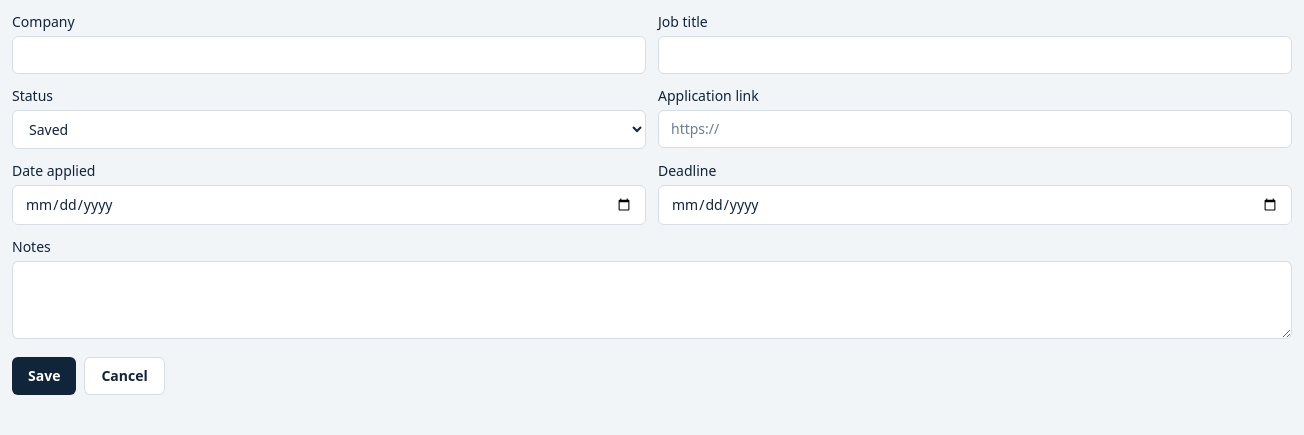
Test case: application editing › rejects non-http links
Type "A" into the field labelled "Company".
click(329, 55); type("A")  # box [12, 36, 646, 74]
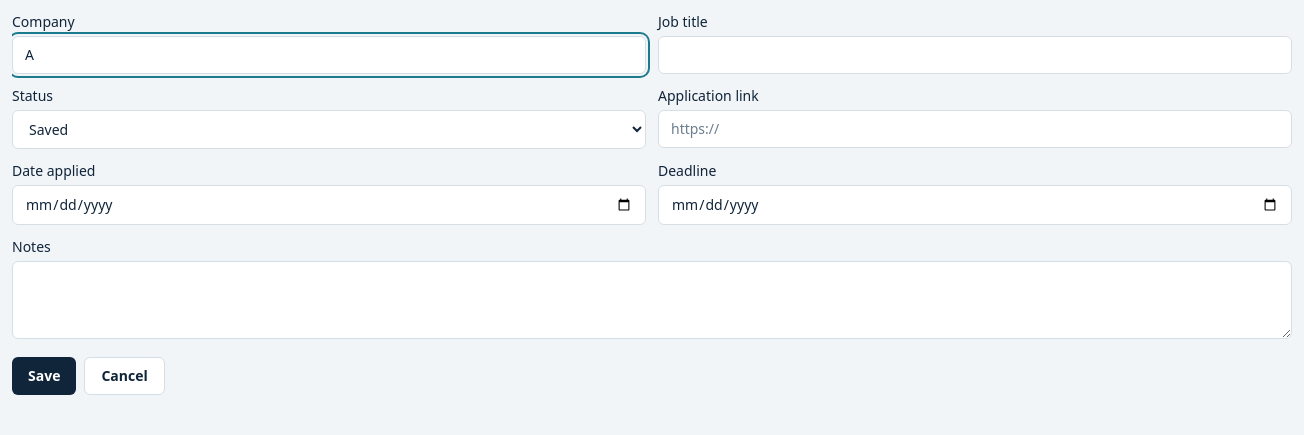
Type "B" into the field labelled "Job title".
click(975, 55); type("B")  # box [658, 36, 1292, 74]
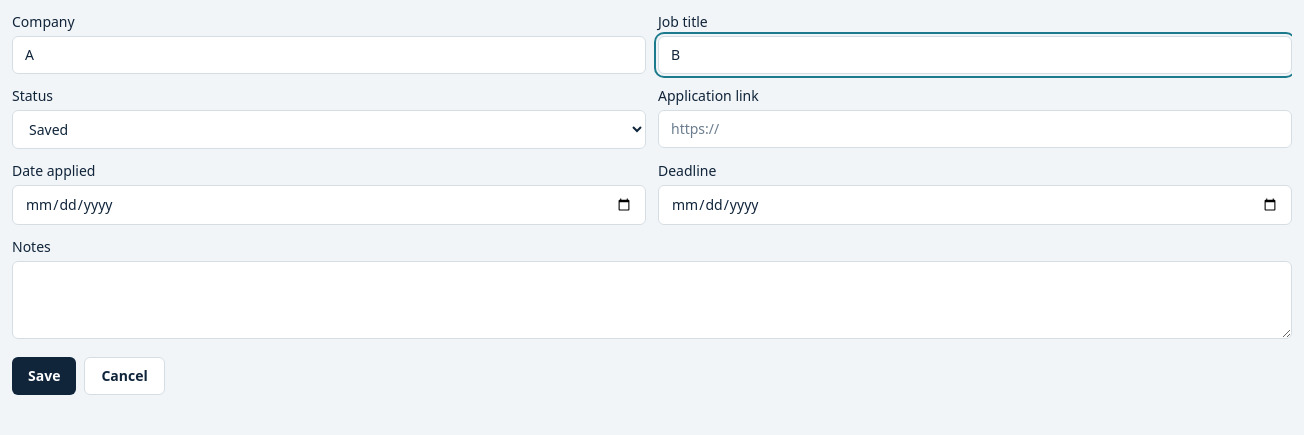
Type "javascript:alert(1)" into the field labelled "Application link".
click(975, 129); type("javascript:alert(1)")  # box [658, 110, 1292, 148]
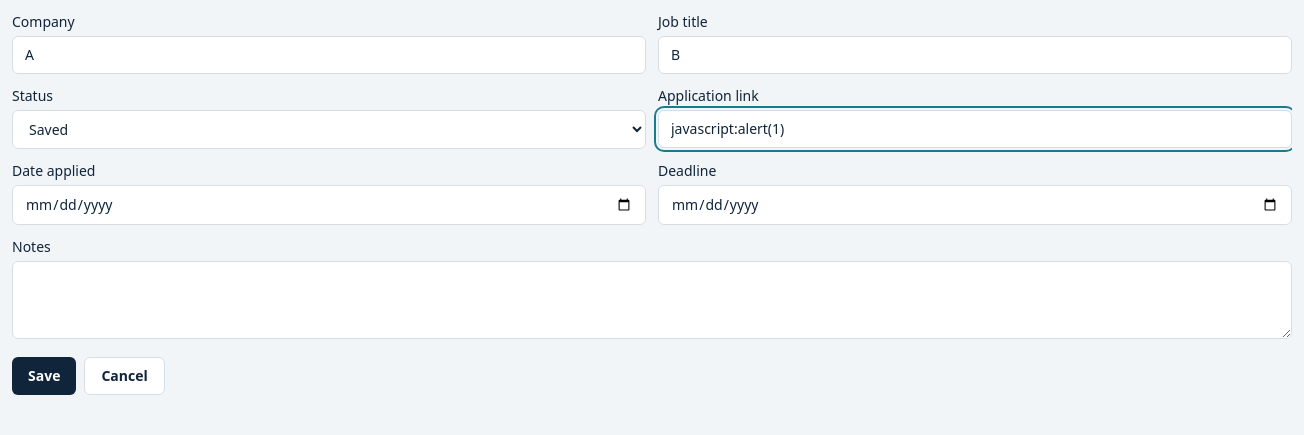
Click the button "Save".
click(44, 376)  # box [12, 357, 76, 395]
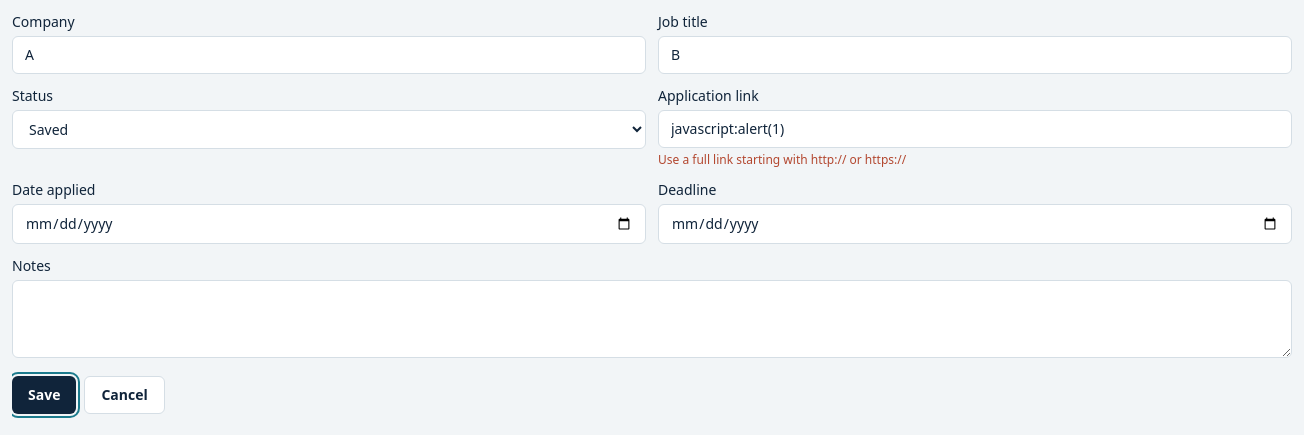
Expected: the text "Use a full link starting with http:// or https://" is shown, [658, 151, 906, 168]
